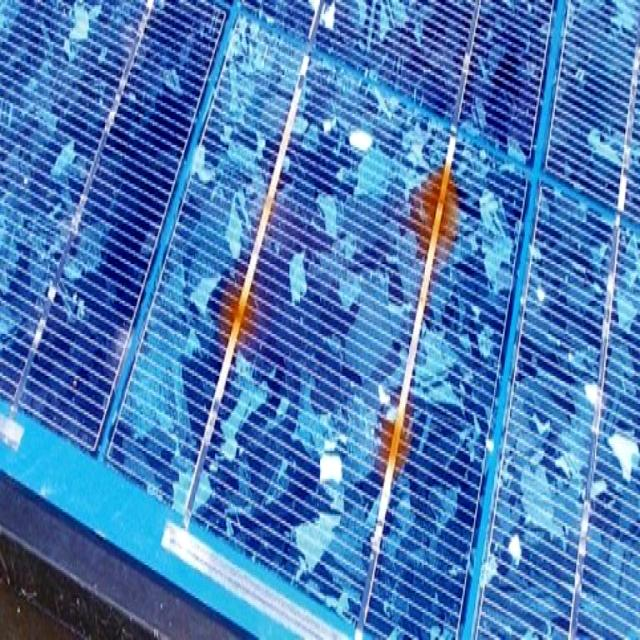shadow: (206, 232, 264, 385), (374, 348, 424, 496), (406, 158, 474, 266)
